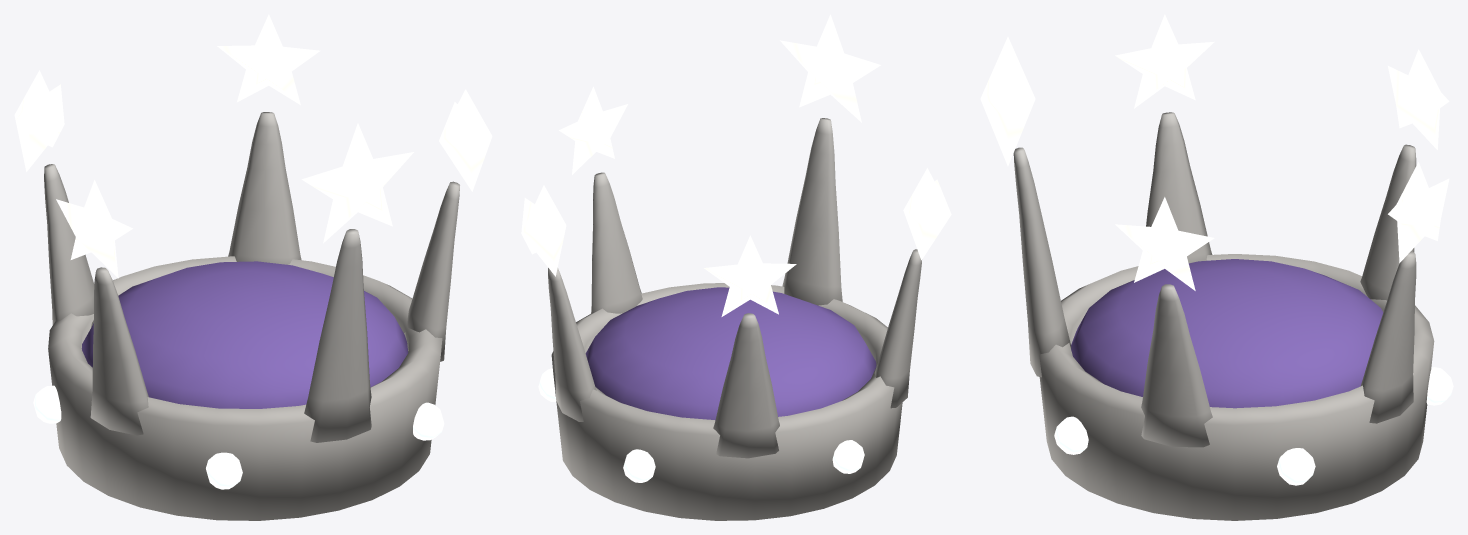
Rendered from part_star_crown.glb.
The picture shows the model from 3 angles, left to right: view 1: azimuth 30°, elevation 25°; view 2: azimuth 150°, elevation 25°; view 3: azimuth 270°, elevation 25°; orthographic projection. The views are drawn at different scales.
Parts seen in each view (by area): view 1: part_star_crown_painted_mesh; view 2: part_star_crown_painted_mesh; view 3: part_star_crown_painted_mesh.
Part boxes in pixels (bbox=[...]): part_star_crown_painted_mesh: bbox=[14, 14, 492, 520]; part_star_crown_painted_mesh: bbox=[521, 14, 951, 520]; part_star_crown_painted_mesh: bbox=[980, 14, 1453, 520].
Bounding box in the file's own units: 0.875 × 0.8075 × 0.855.
